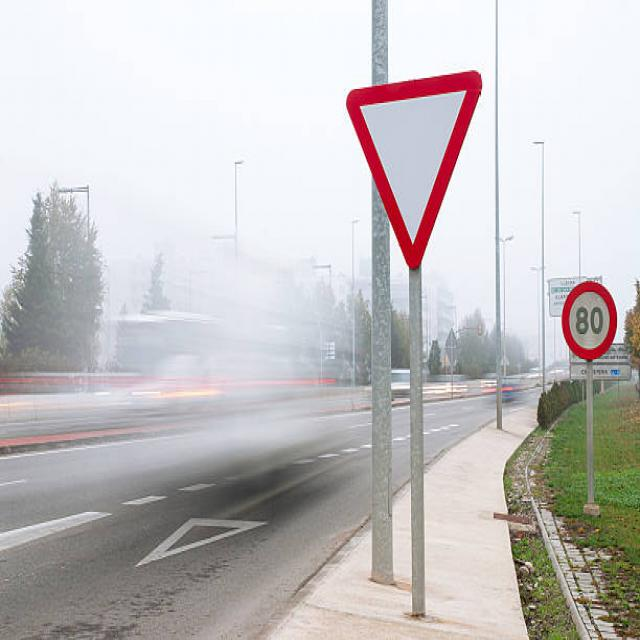give_way: (344, 64, 491, 270)
